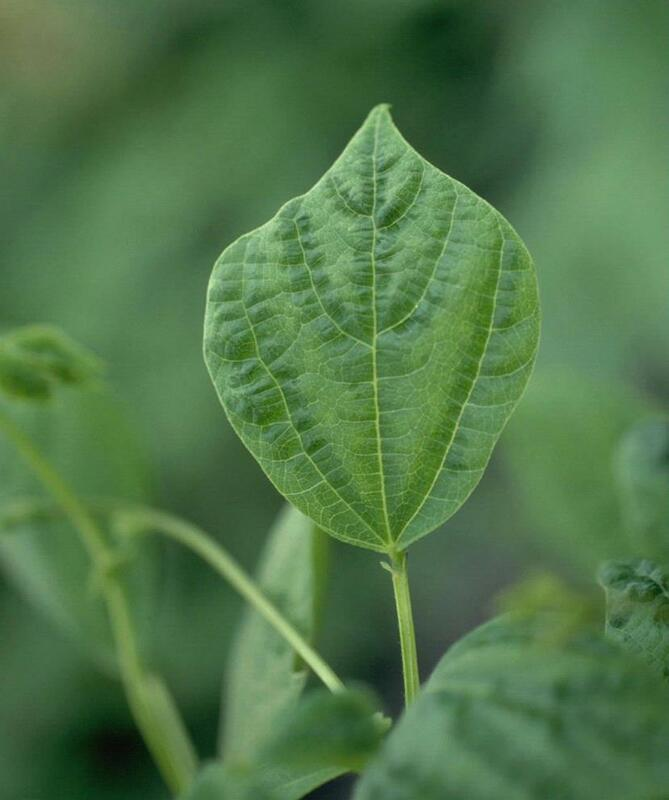StringBeans_Mosaic: (212, 105, 527, 558)
